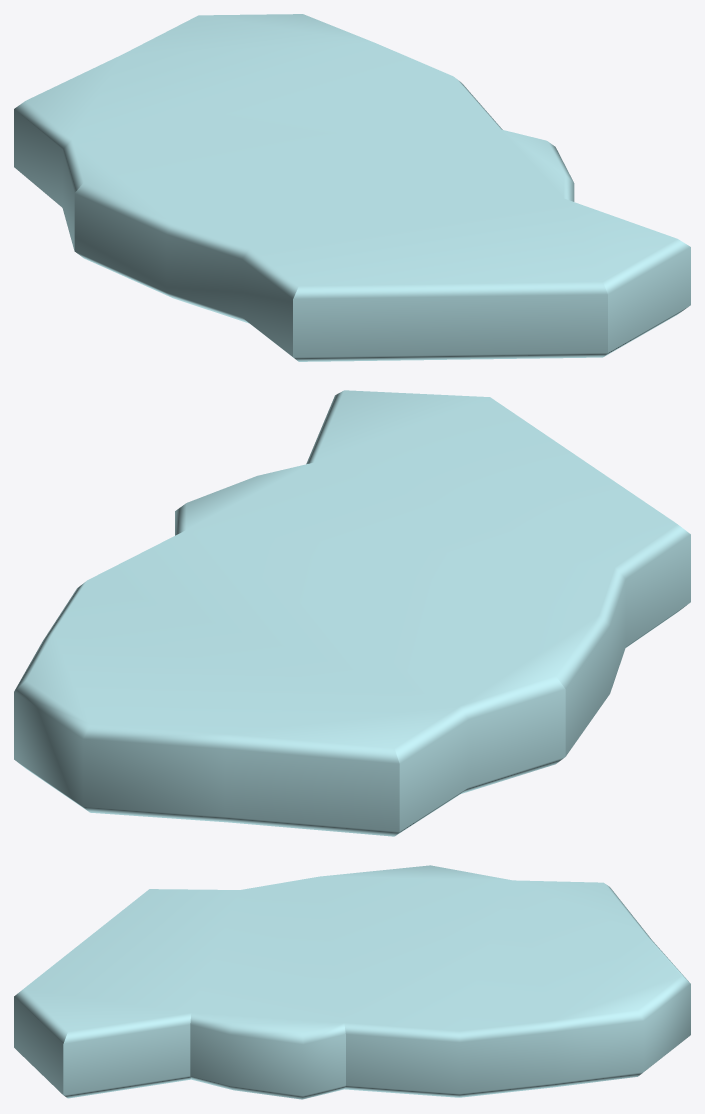
File: ice_floe_medium_006.fbx
The picture shows the model from 3 angles, top to bottom: view 1: azimuth 30°, elevation 25°; view 2: azimuth 150°, elevation 25°; view 3: azimuth 270°, elevation 25°; orthographic projection. The views are drawn at different scales.
Parts seen in each view (by area): view 1: ice_floe_medium_006; view 2: ice_floe_medium_006; view 3: ice_floe_medium_006.
Part boxes in pixels (<box>): ice_floe_medium_006: <box>14,14,690,361</box>; ice_floe_medium_006: <box>14,390,690,836</box>; ice_floe_medium_006: <box>14,865,690,1099</box>.
Bounding box in the file's own units: 504 × 822 × 89.44.
